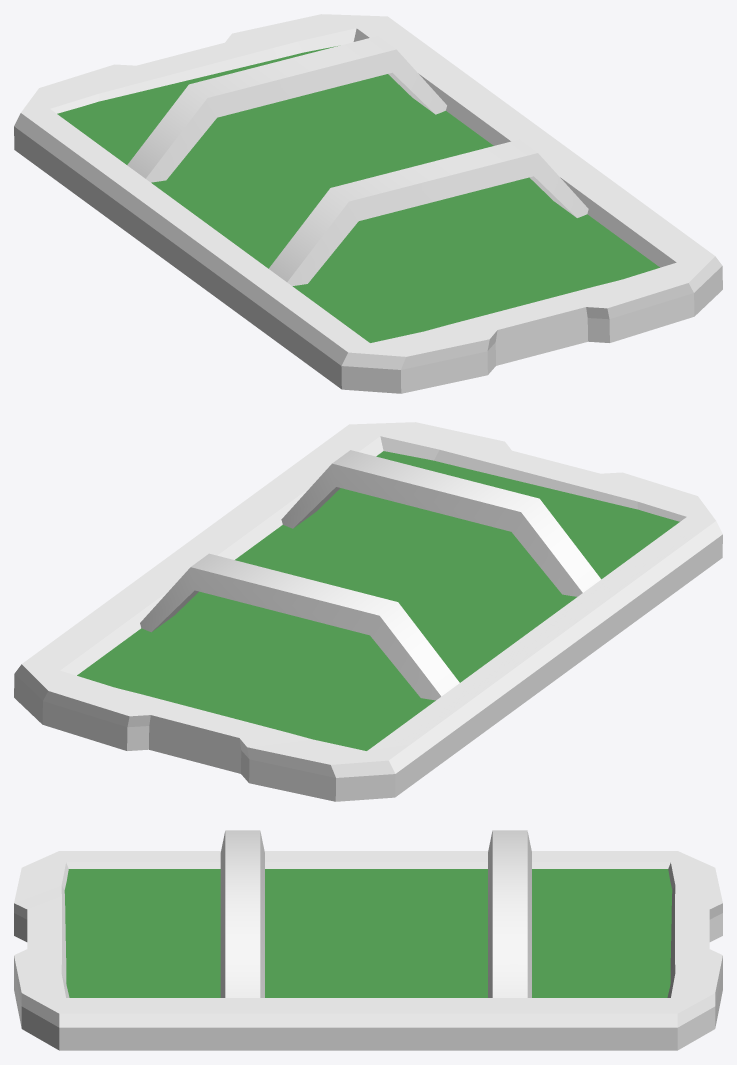
The model's file is StreetWindow_CeilingPortal.fbx.
3 views of the same model, one above another, from view 1: azimuth 30°, elevation 25°; view 2: azimuth 150°, elevation 25°; view 3: azimuth 270°, elevation 25° (orthographic). The views are drawn at different scales.
Parts seen in each view (by area): view 1: StreetWindow_Frame, StreetWindow_Portal; view 2: StreetWindow_Frame, StreetWindow_Portal; view 3: StreetWindow_Frame, StreetWindow_Portal.
Part boxes in pixels (x1,y1,x2,y2): StreetWindow_Frame: (14,14,722,393); StreetWindow_Portal: (57,46,659,342); StreetWindow_Frame: (14,422,722,801); StreetWindow_Portal: (77,451,679,750); StreetWindow_Frame: (14,830,722,1050); StreetWindow_Portal: (64,869,672,997).
Bounding box in the file's own units: 91.94 × 23.71 × 157.
